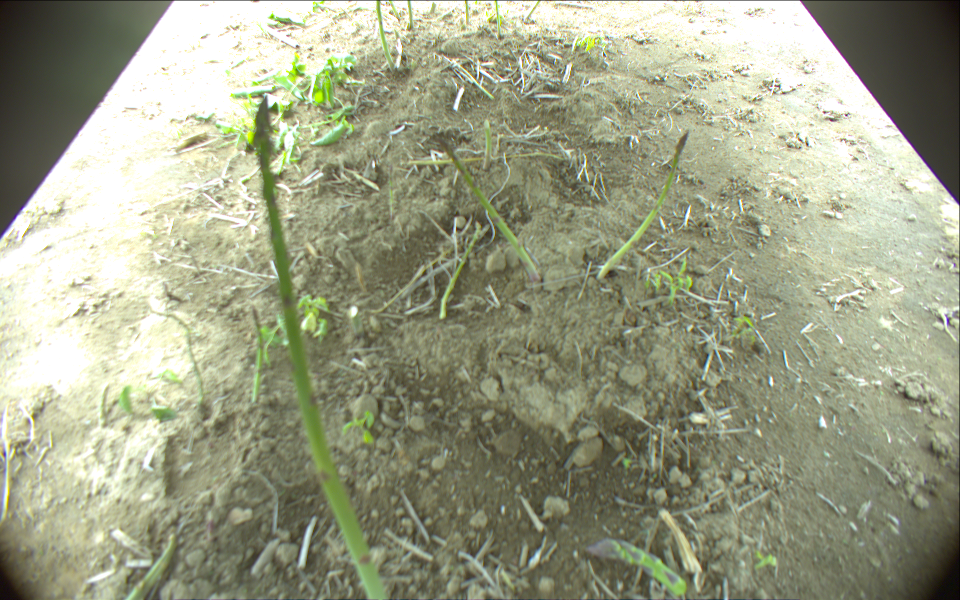aspa: (253, 97, 391, 599), (442, 139, 542, 284), (597, 131, 691, 280), (587, 537, 684, 594), (439, 226, 484, 323), (122, 532, 176, 600), (404, 150, 566, 166), (374, 1, 397, 72), (482, 118, 493, 170), (524, 1, 544, 21), (493, 1, 503, 37), (405, 1, 414, 30), (389, 1, 400, 24), (464, 1, 470, 28), (429, 1, 437, 16)
